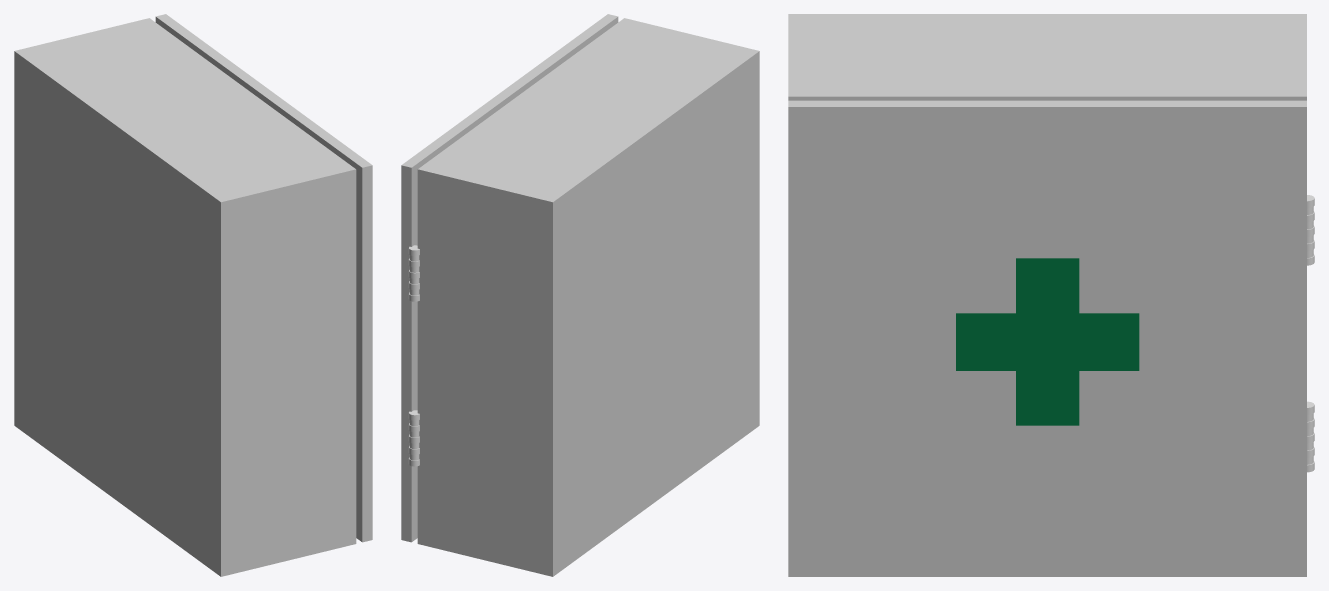
The model's file is apteczka.fbx.
3 views of the same model, side by side, from view 1: azimuth 30°, elevation 25°; view 2: azimuth 150°, elevation 25°; view 3: azimuth 270°, elevation 25° (orthographic). The views are drawn at different scales.
Visible parts, largest first — view 1: Cylinder; view 2: Cylinder; view 3: Cylinder.
Boxes of the visible parts, x1,y1,x2,y2 form: Cylinder: (14,14,372,576); Cylinder: (401,14,759,576); Cylinder: (788,14,1314,576).
Bounding box in the file's own units: 57.88 × 136 × 138.
